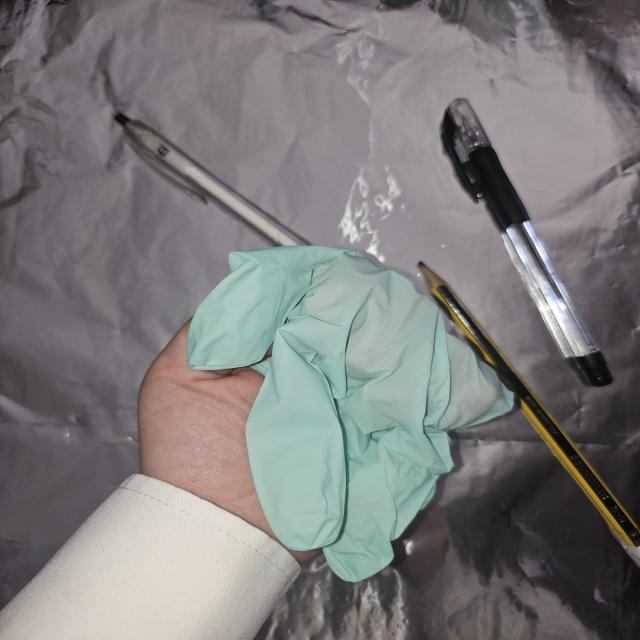glove_partial: (137, 244, 515, 586)
